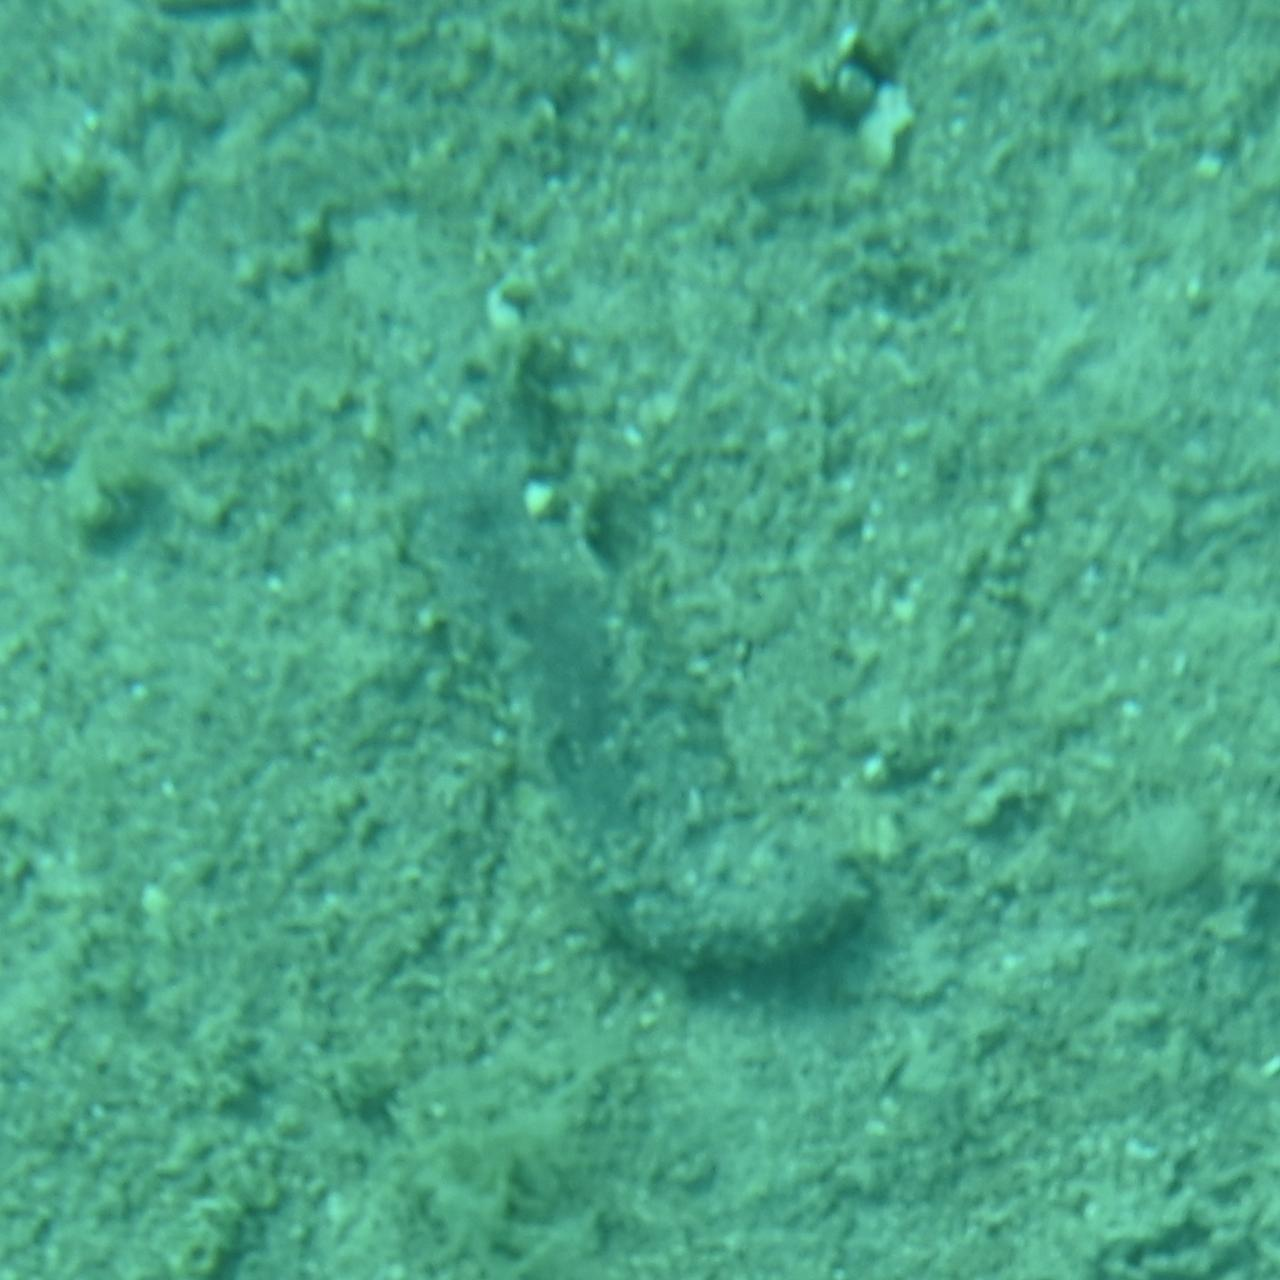Holothuria tubulosa: (378, 276, 902, 1004)
